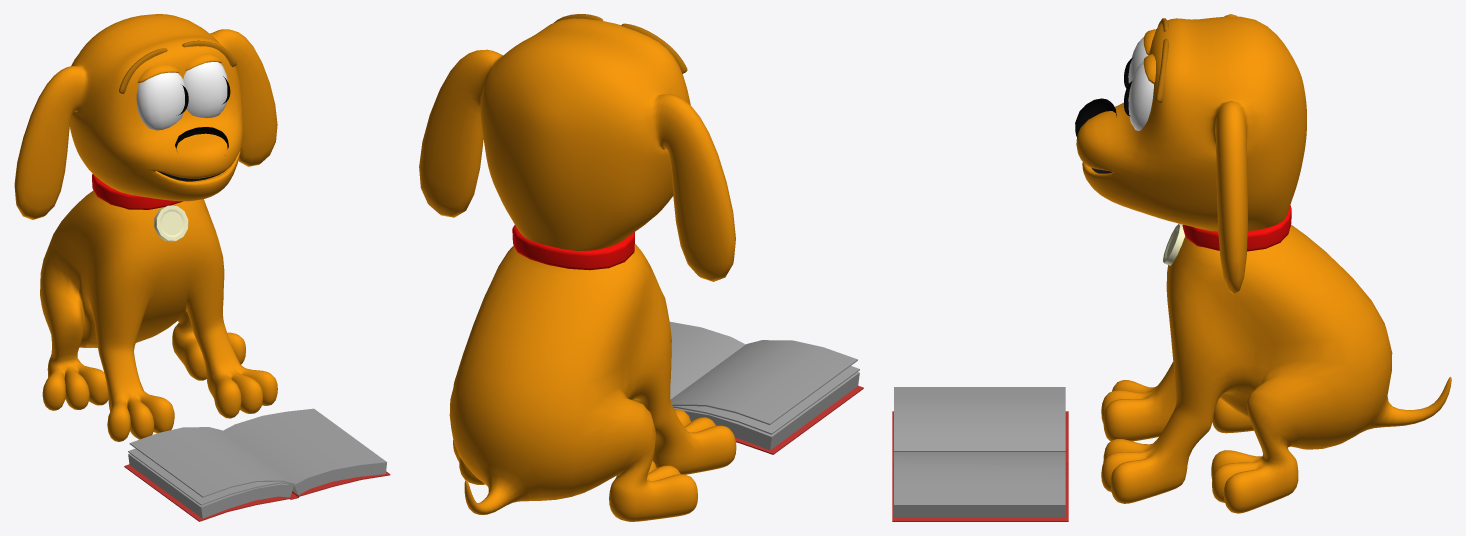
3 renders of one model, left to right at view 1: azimuth 30°, elevation 25°; view 2: azimuth 150°, elevation 25°; view 3: azimuth 270°, elevation 25°, orthographic. The views are drawn at different scales.
Parts seen in each view (by area): view 1: dog_0, Cube.001_2; view 2: dog_0, Cube.001_2; view 3: dog_0, Cube.001_2.
Boxes of the visible parts, x1,y1,x2,y2 form: dog_0: (14,14,277,441); Cube.001_2: (124,408,390,521); dog_0: (419,14,736,521); Cube.001_2: (669,321,863,454); dog_0: (1075,14,1451,513); Cube.001_2: (892,387,1068,521).
Size of the model in its own units: 3.64 by 4.94 by 5.74.
